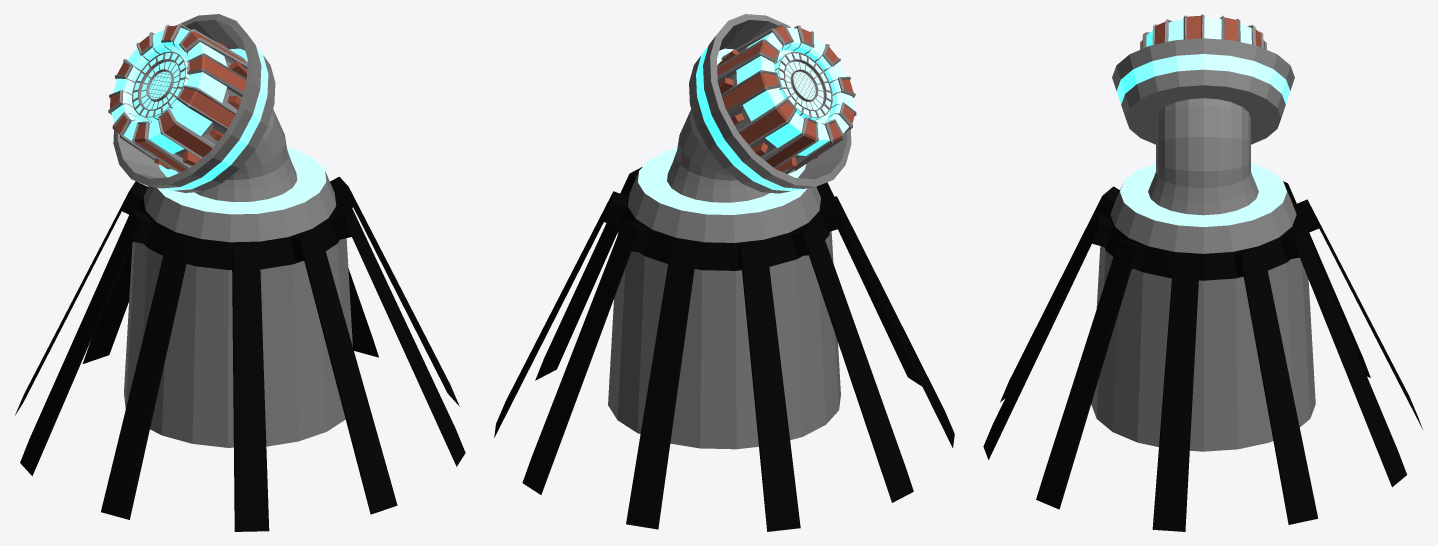
Rendered from Arc reactor.fbx.
The picture shows the model from 3 angles, left to right: view 1: azimuth 30°, elevation 25°; view 2: azimuth 150°, elevation 25°; view 3: azimuth 270°, elevation 25°; orthographic projection. The views are drawn at different scales.
Parts seen in each view (by area): view 1: Arc tilted; view 2: Arc tilted; view 3: Arc tilted.
Boxes of the visible parts, x1,y1,x2,y2 form: Arc tilted: (15,14,465,531); Arc tilted: (494,14,954,531); Arc tilted: (983,14,1422,531).
Size of the model in its own units: 7755 by 7808 by 7755.
